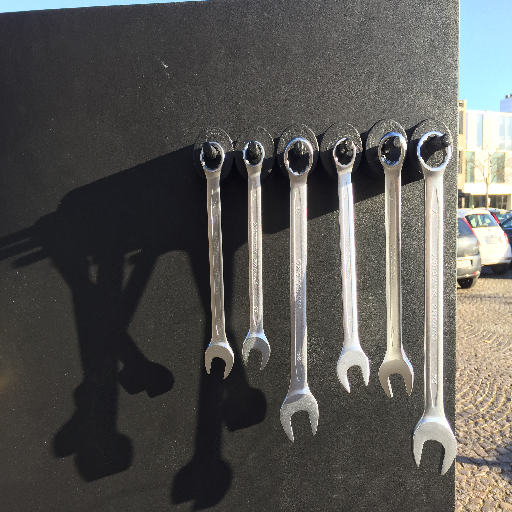bottom: (411, 413, 459, 475), (279, 389, 319, 441), (378, 352, 416, 400), (335, 346, 370, 393), (239, 330, 273, 373), (202, 339, 236, 379)
top: (414, 130, 453, 175), (282, 136, 316, 177), (375, 131, 408, 173), (197, 140, 226, 174), (331, 137, 357, 171), (240, 138, 267, 169)
